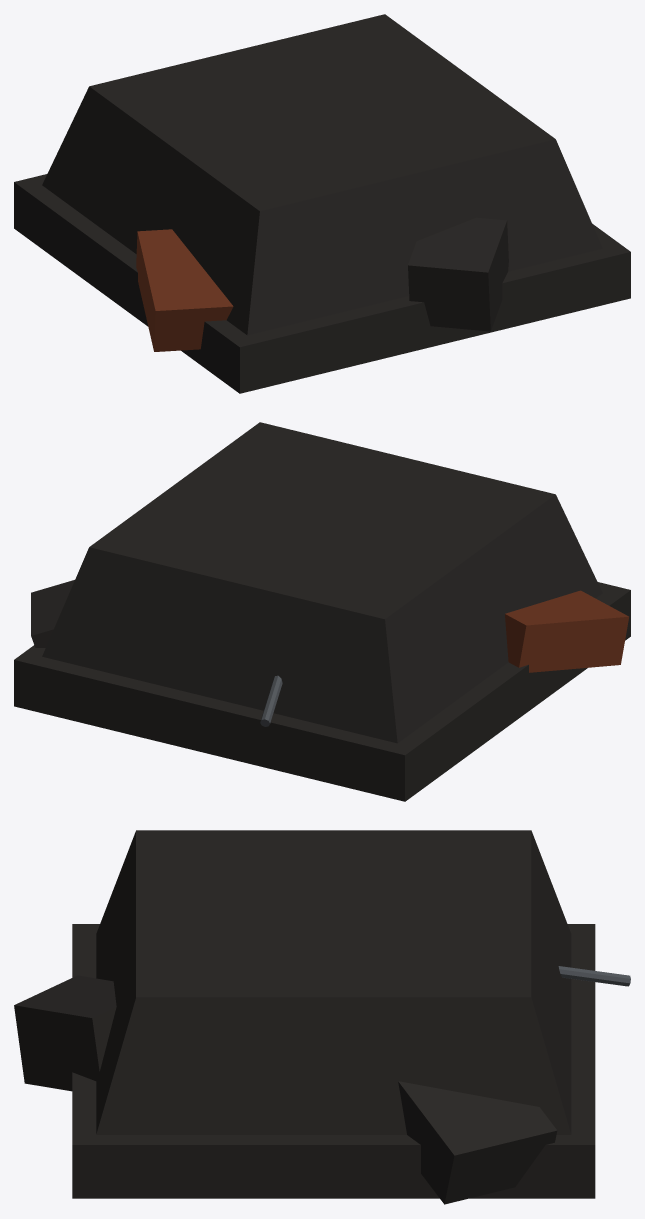
File: RF_Structure_FlagTower_Destroyed.glb
3 renders of one model, top to bottom at view 1: azimuth 30°, elevation 25°; view 2: azimuth 150°, elevation 25°; view 3: azimuth 270°, elevation 25°, orthographic. The views are drawn at different scales.
Parts seen in each view (by area): view 1: RF_Structure_FlagTower_Destroyed; view 2: RF_Structure_FlagTower_Destroyed; view 3: RF_Structure_FlagTower_Destroyed.
Boxes of the visible parts, box(x1,y1,x2,y2) form: RF_Structure_FlagTower_Destroyed: box(14, 14, 630, 393); RF_Structure_FlagTower_Destroyed: box(14, 422, 630, 801); RF_Structure_FlagTower_Destroyed: box(14, 830, 630, 1204).
Size of the model in its own units: 5.36 by 1.62 by 5.19.
